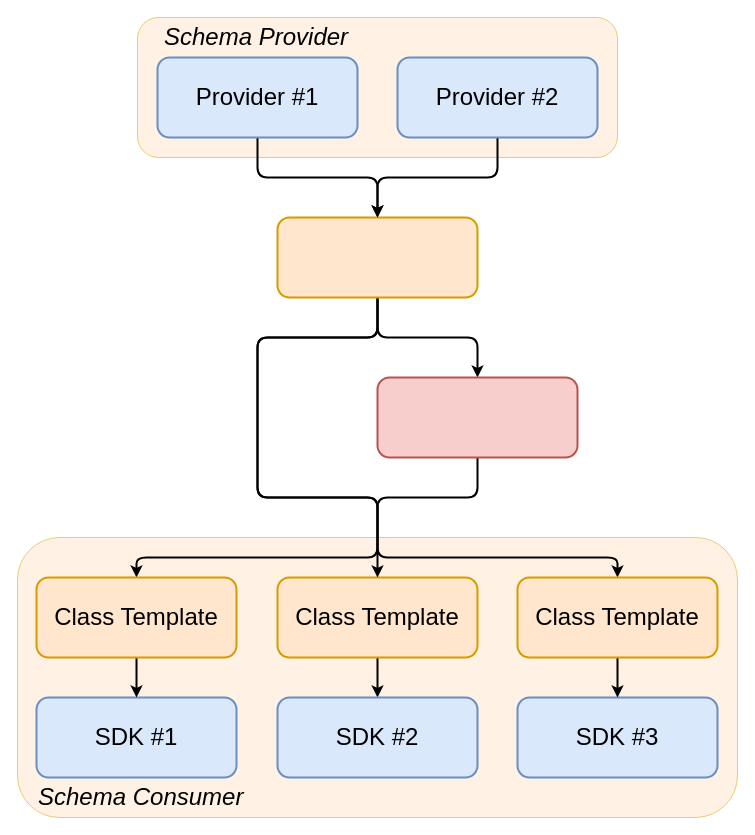
The diagram is 755 pixels wide and 835 high, and some of its shapes have lost their labels. Each missing label, with the centre of its shape:
Diff: (477,417)
Schema: (377,257)
